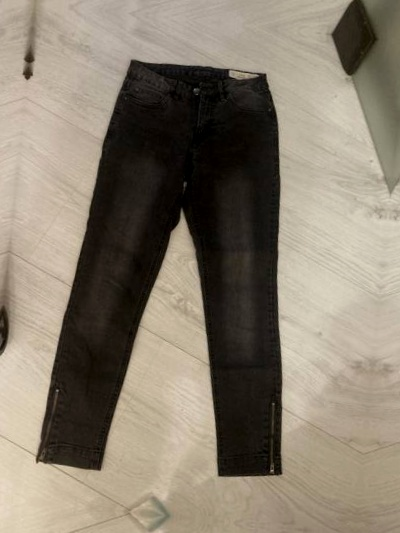Pants: (34, 38, 341, 486), (85, 0, 391, 6)
